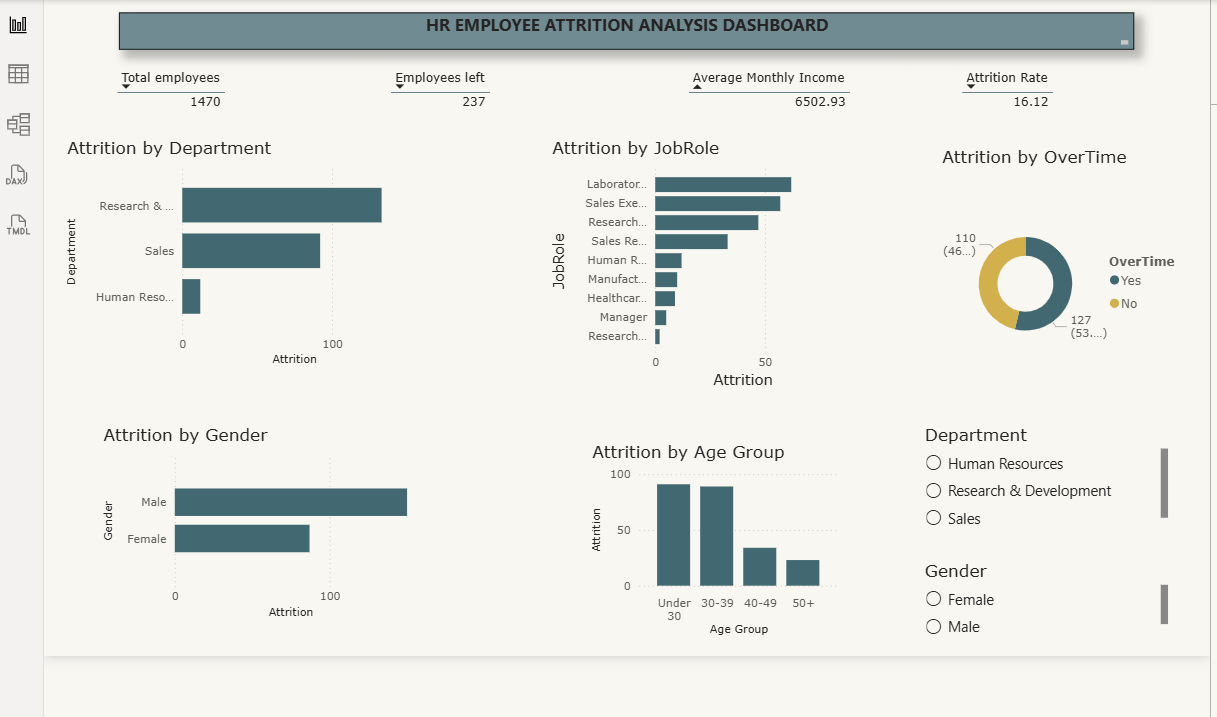

The page's visual inventory and layout, read from the dashboard file:
{"tool":"powerbi","page":{"name":"Page 1","canvas":[1280,720],"ordinal":0},"visuals":[{"type":"tableEx","fields":{"Values":["Employee_Attrition.Employees_Left_company"]},"box":[374.6,70,249.7,61.7],"z":0},{"type":"tableEx","fields":{"Values":["Avg(Employee_Attrition.MonthlyIncome)"]},"box":[701.2,70,242.9,72.7],"z":1000},{"type":"tableEx","fields":{"Values":["CountNonNull(Employee_Attrition.EmployeeNumber)"]},"box":[74.1,70,270.3,101.5],"z":2000},{"type":"clusteredBarChart","fields":{"Category":["Employee_Attrition.Department"],"Y":["Employee_Attrition.Employees_Left_company"]},"box":[20.6,150.9,395.2,255.2],"z":3000},{"type":"clusteredBarChart","fields":{"Category":["Employee_Attrition.JobRole"],"Y":["Employee_Attrition.Employees Left"]},"box":[553,150.9,323.8,279.9],"z":4000},{"type":"donutChart","fields":{"Category":["Employee_Attrition.OverTime"],"Y":["Employee_Attrition.Employees_Left_company"]},"box":[981.1,160.5,279.9,279.9],"z":5000},{"type":"clusteredBarChart","fields":{"Category":["Employee_Attrition.Gender"],"Y":["Employee_Attrition.Employees_Left_company"]},"box":[60.4,465.2,355.4,218.2],"z":6000},{"type":"columnChart","fields":{"Category":["Employee_Attrition.Age Group"],"Y":["Employee_Attrition.Employees Left"]},"box":[596.9,484.4,279.9,218.2],"z":7000},{"type":"tableEx","fields":{"Values":["Employee_Attrition.Attrition Rate"]},"box":[1001.7,70,223.7,61.7],"z":8000},{"type":"listSlicer","fields":{"Values":["Employee_Attrition.Department"]},"box":[961.9,465.2,277.2,120.8],"z":9000},{"type":"listSlicer","fields":{"Values":["Employee_Attrition.Gender"]},"box":[961.9,614.8,277.2,87.8],"z":10000},{"type":"textbox","title":"HR EMPLOYEE ATTRITION ANALYSIS DASHBOARD","box":[82.3,13.7,1114.2,41.2],"z":10001}]}

Visuals, with their boxes on the page's 1280x720 design canvas (x1, y1, x2, y2). These are canvas units, not pixel positions in the 1217x717 screenshot, which may show the page scaled, cropped or inside an application window:
tableEx - Employee_Attrition.Employees_Left_company: [left=375, top=70, right=624, bottom=132]
tableEx - Avg(Employee_Attrition.MonthlyIncome): [left=701, top=70, right=944, bottom=143]
tableEx - CountNonNull(Employee_Attrition.EmployeeNumber): [left=74, top=70, right=344, bottom=172]
clusteredBarChart - Employee_Attrition.Department x Employee_Attrition.Employees_Left_company: [left=21, top=151, right=416, bottom=406]
clusteredBarChart - Employee_Attrition.JobRole x Employee_Attrition.Employees Left: [left=553, top=151, right=877, bottom=431]
donutChart - Employee_Attrition.OverTime x Employee_Attrition.Employees_Left_company: [left=981, top=160, right=1261, bottom=440]
clusteredBarChart - Employee_Attrition.Gender x Employee_Attrition.Employees_Left_company: [left=60, top=465, right=416, bottom=683]
columnChart - Employee_Attrition.Age Group x Employee_Attrition.Employees Left: [left=597, top=484, right=877, bottom=703]
tableEx - Employee_Attrition.Attrition Rate: [left=1002, top=70, right=1225, bottom=132]
listSlicer - Employee_Attrition.Department: [left=962, top=465, right=1239, bottom=586]
listSlicer - Employee_Attrition.Gender: [left=962, top=615, right=1239, bottom=703]
"HR EMPLOYEE ATTRITION ANALYSIS DASHBOARD" textbox: [left=82, top=14, right=1196, bottom=55]
